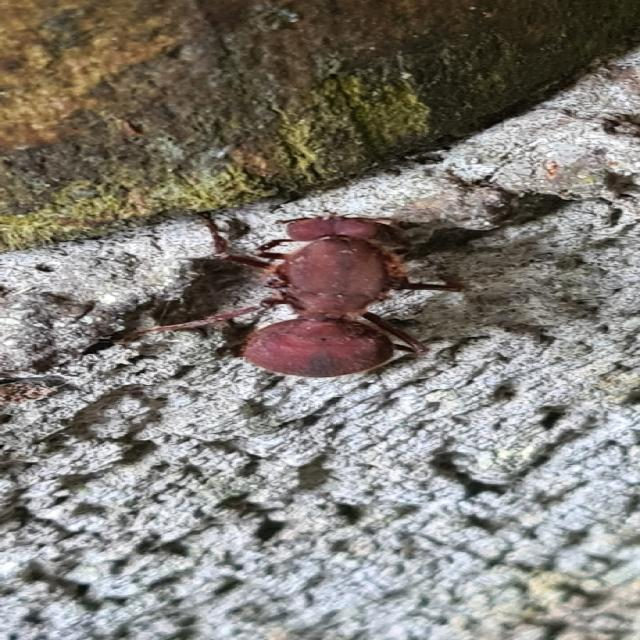Alive-Female-Dealate: (134, 211, 467, 378)
